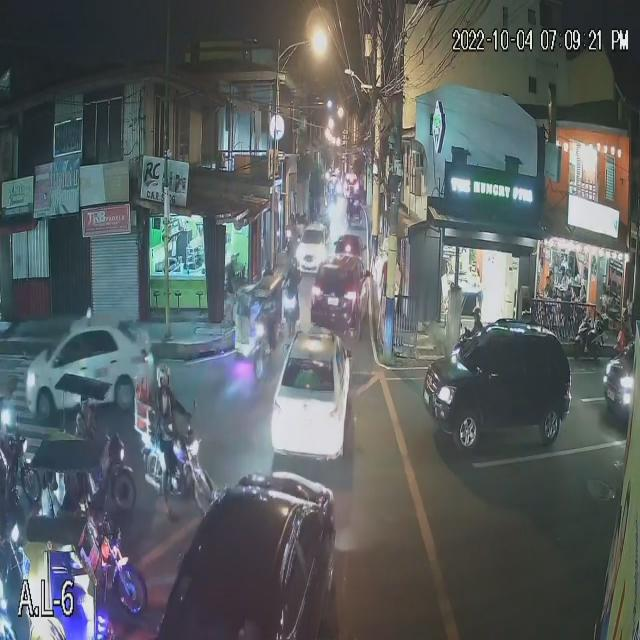helmet: (157, 365, 171, 383)
motorcycle: (142, 416, 217, 516), (571, 309, 609, 356), (279, 293, 302, 340)
rider: (155, 388, 192, 521)
